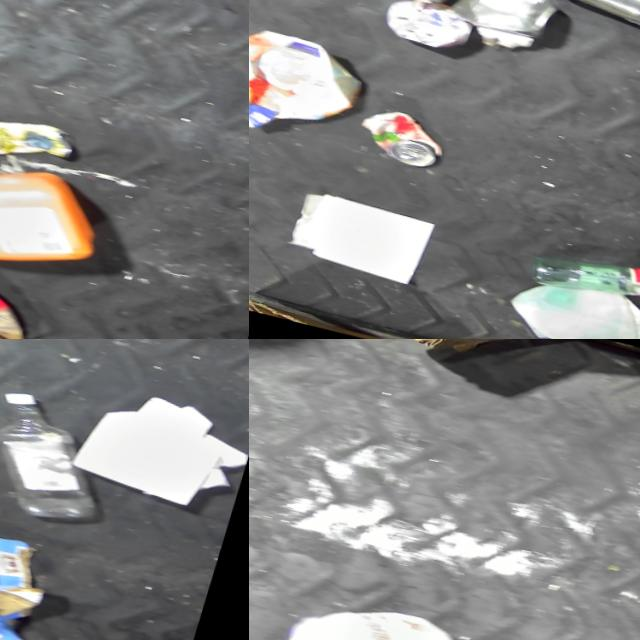can: (355, 101, 460, 175), (0, 101, 85, 176), (442, 0, 569, 44), (548, 0, 640, 34)
milk_jug: (275, 586, 483, 640)
non_white_jug: (0, 131, 122, 292)
plastic_bottle: (0, 387, 129, 531)
